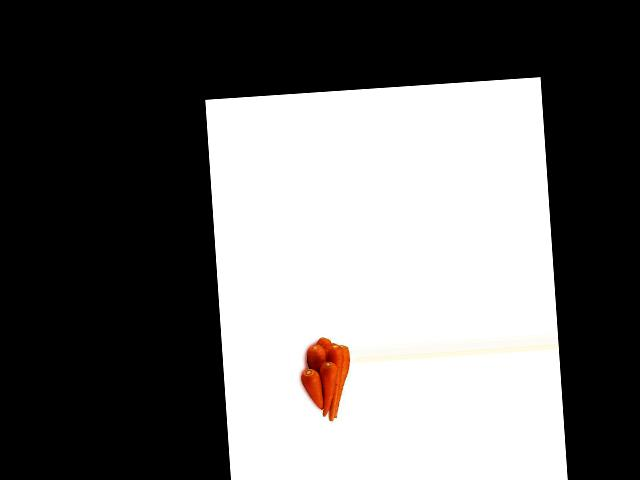carrot: (299, 368, 324, 414)
